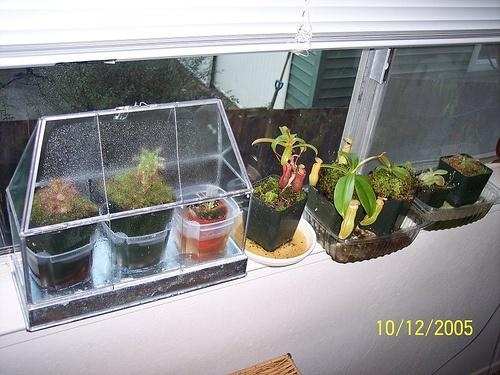pottedplant: (100, 148, 177, 280), (243, 126, 320, 255), (24, 177, 104, 298), (308, 149, 376, 248), (172, 184, 242, 266), (369, 157, 419, 242), (438, 153, 494, 209), (414, 169, 455, 213)
